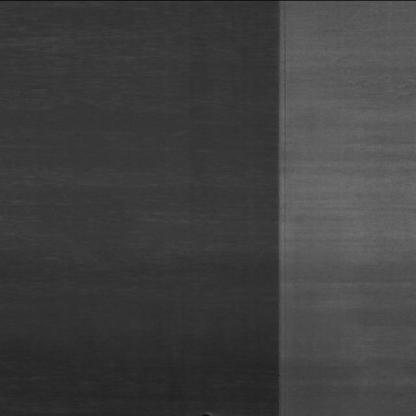punching_hole: (199, 412, 214, 416)
welding_line: (265, 0, 288, 416)
